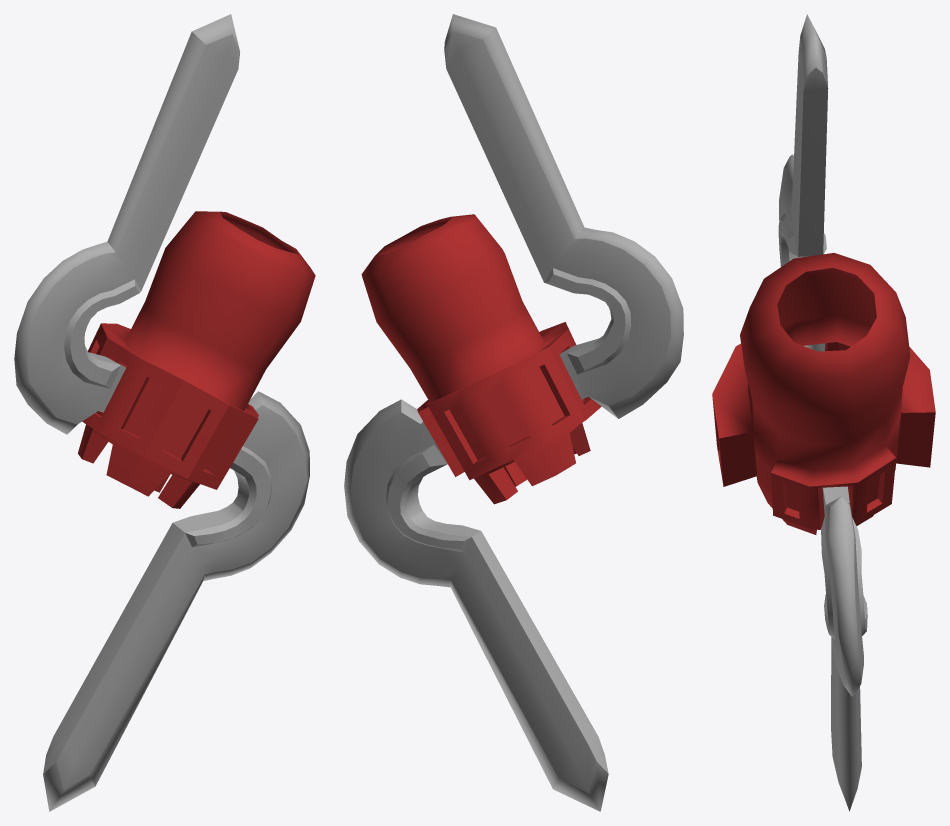
Rendered from espada1.fbx.
3 views of the same model, side by side, from view 1: azimuth 30°, elevation 25°; view 2: azimuth 150°, elevation 25°; view 3: azimuth 270°, elevation 25° (orthographic). The views are drawn at different scales.
Parts seen in each view (by area): view 1: polySurface1, polySurface3; view 2: polySurface1, polySurface3; view 3: polySurface3, polySurface1.
Boxes of the visible parts, left/top/right/bottom form: polySurface1: left=14, top=14, right=309, bottom=811; polySurface3: left=78, top=211, right=315, bottom=508; polySurface1: left=344, top=14, right=683, bottom=811; polySurface3: left=361, top=214, right=601, bottom=504; polySurface3: left=712, top=253, right=935, bottom=534; polySurface1: left=778, top=14, right=867, bottom=811.
Bounding box in the file's own units: 0.166 × 0.3779 × 0.0889.
